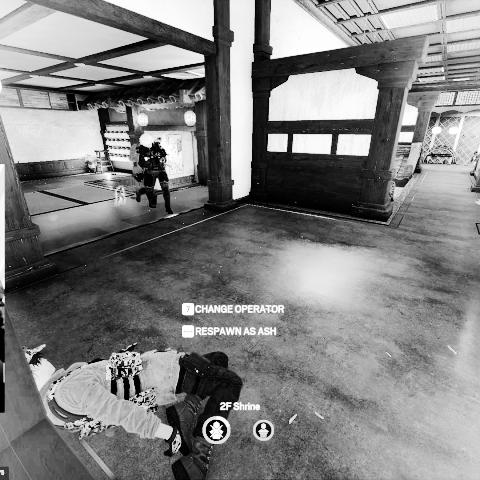Character: (27, 341, 239, 480), (139, 133, 175, 215), (129, 138, 157, 209), (469, 149, 480, 173)
Head: (28, 346, 59, 386), (141, 134, 154, 149), (473, 150, 479, 157)
